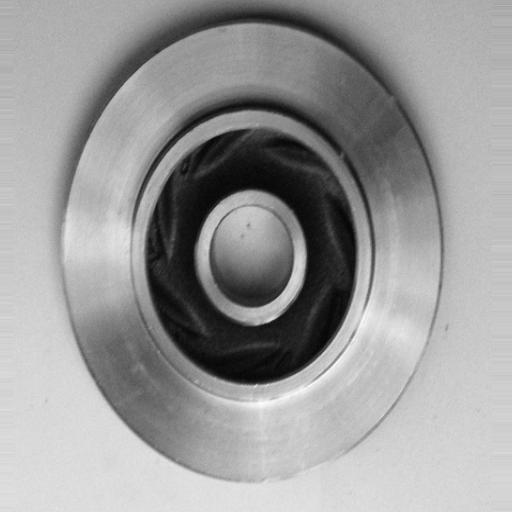scratch: (259, 445, 353, 498)
unpolished_casting: (59, 15, 453, 482)
